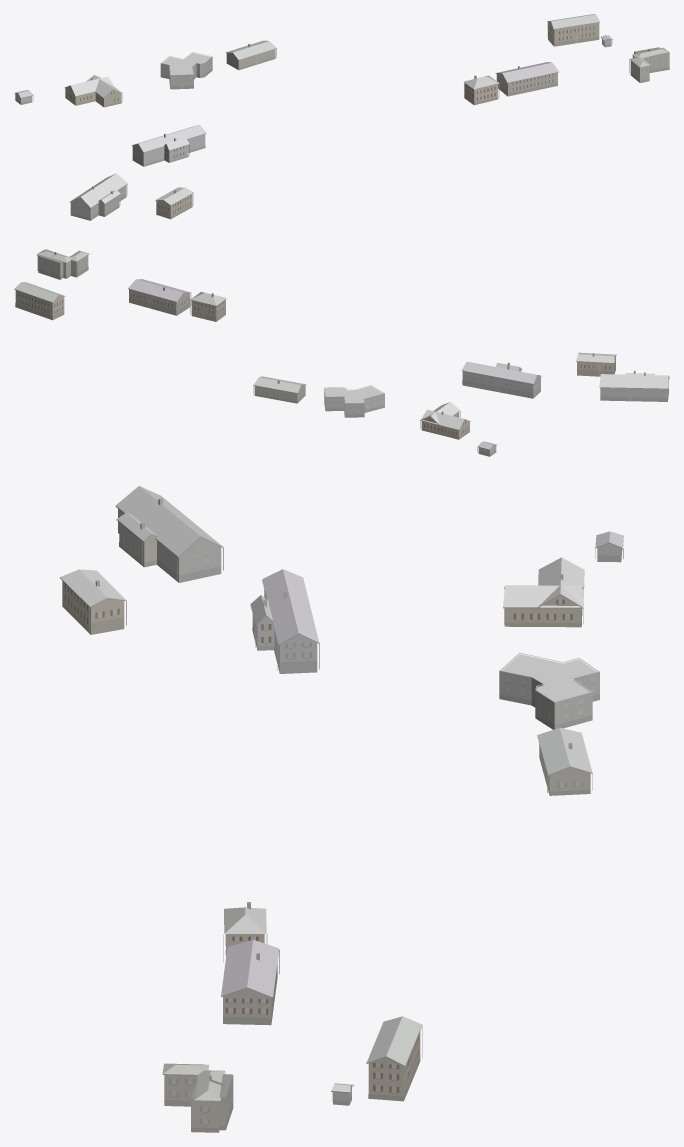
3 views of the same model, one above another, from view 1: azimuth 30°, elevation 25°; view 2: azimuth 150°, elevation 25°; view 3: azimuth 270°, elevation 25° (orthographic). The views are drawn at different scales.
Visible parts, largest first — view 1: bld; view 2: bld; view 3: bld.
Part boxes in pixels (<box>): bld: <box>14,14,669,220</box>; bld: <box>14,249,669,456</box>; bld: <box>60,486,623,1132</box>.
Size of the model in its own units: 276 by 18.2 by 111.
